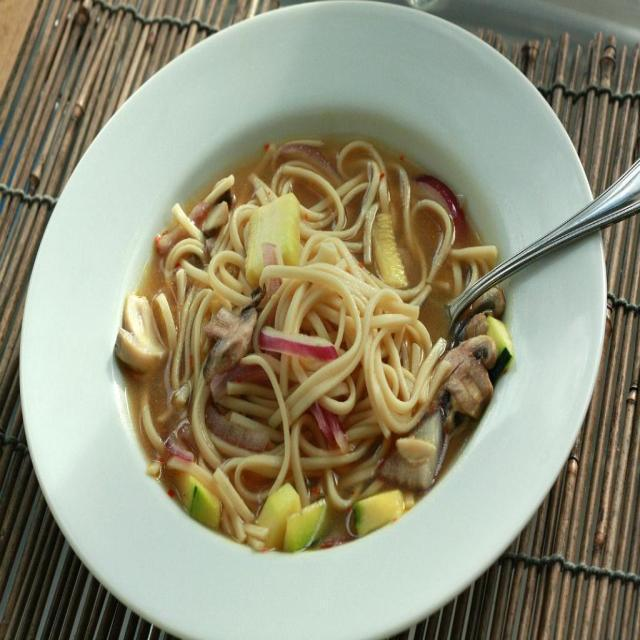Pasta: (138, 130, 498, 550)
